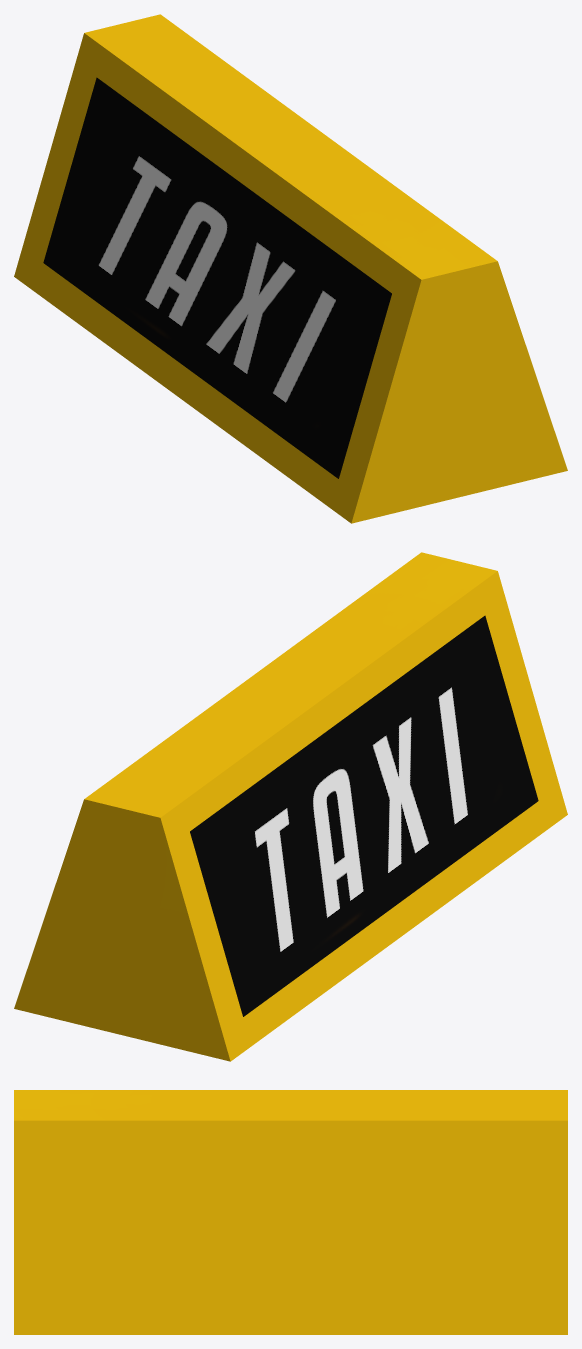
Rendered from TaxiTop.fbx.
The picture shows the model from 3 angles, top to bottom: view 1: azimuth 30°, elevation 25°; view 2: azimuth 150°, elevation 25°; view 3: azimuth 270°, elevation 25°; orthographic projection. The views are drawn at different scales.
Parts seen in each view (by area): view 1: Taxi; view 2: Taxi; view 3: Taxi.
Boxes of the visible parts, left/top/right/bottom form: Taxi: left=14, top=14, right=567, bottom=523; Taxi: left=14, top=552, right=567, bottom=1061; Taxi: left=14, top=1090, right=567, bottom=1334.
Bounding box in the file's own units: 13.45 × 13.45 × 36.27.
